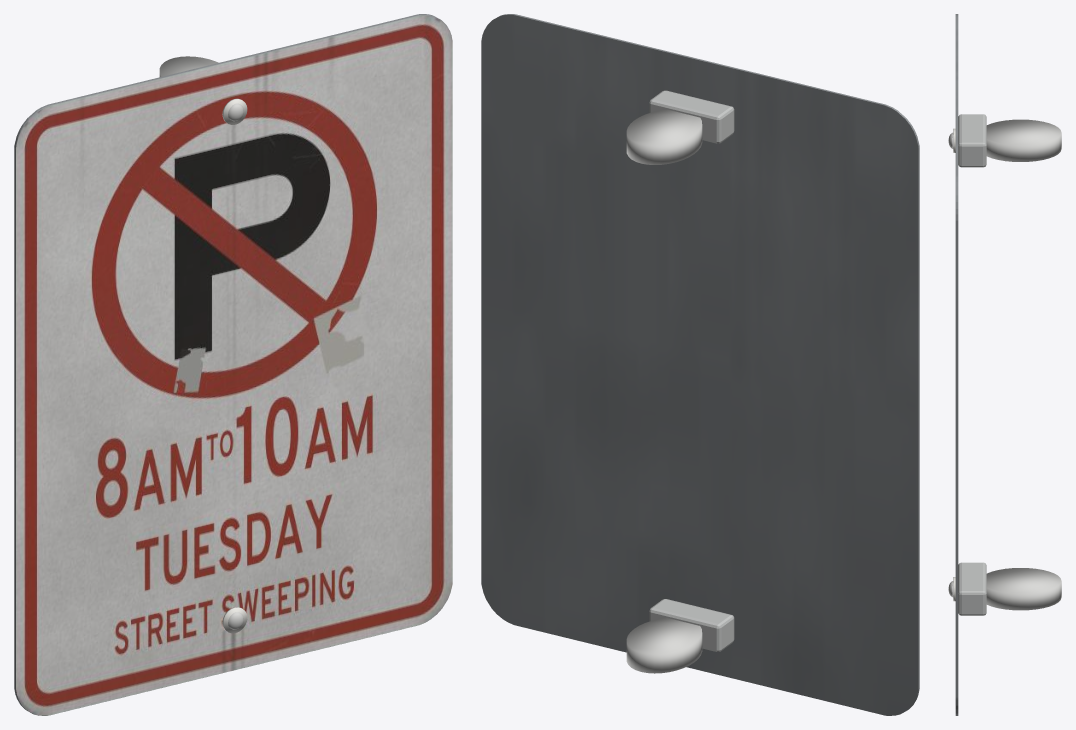
Rendered from streetCleaning-v1.glb.
3 renders of one model, left to right at view 1: azimuth 30°, elevation 25°; view 2: azimuth 150°, elevation 25°; view 3: azimuth 270°, elevation 25°, orthographic. The views are drawn at different scales.
Parts seen in each view (by area): view 1: streetCleaning-v1; view 2: streetCleaning-v1; view 3: streetCleaning-v1.
Part boxes in pixels (box(x1,y1,x2,y2)): streetCleaning-v1: box(14, 14, 452, 715); streetCleaning-v1: box(481, 14, 919, 715); streetCleaning-v1: box(948, 14, 1061, 715).
Bounding box in the file's own units: 0.3429 × 0.4572 × 0.0871.
Materials: 1 (1 with a texture image).
